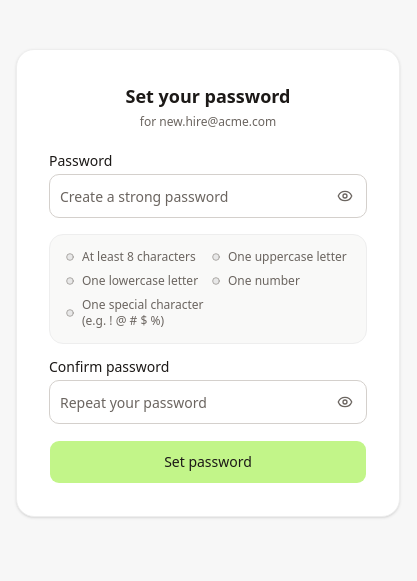
Test case: SetPasswordPage password validation › rejects a password that is no lowercase
In the password field labelled "Password": {"x": 208, "y": 196} [49,174,367,218], type "ABCDEFG1!"
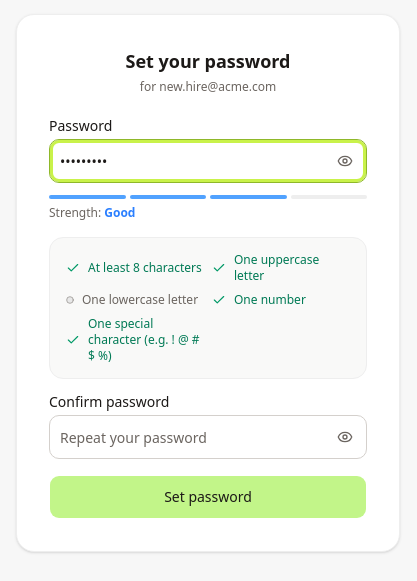
In the password field labelled "Confirm password": {"x": 208, "y": 437} [49,415,367,459], type "ABCDEFG1!"
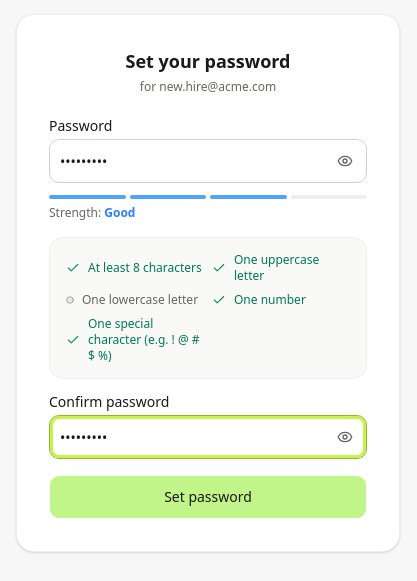
Click the button "Set password": {"x": 208, "y": 497} [49,475,367,519]
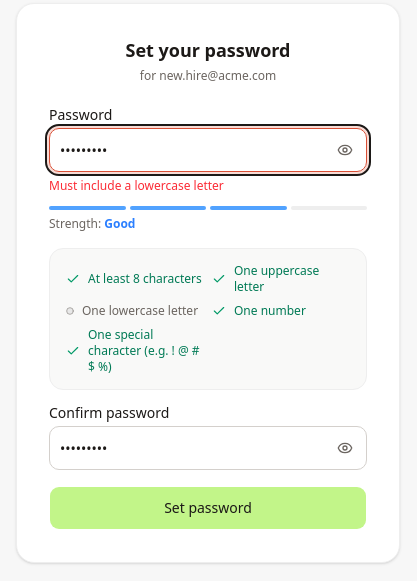
Expected: the text "Must include a lowercase letter" is shown, [49,177,224,194]
